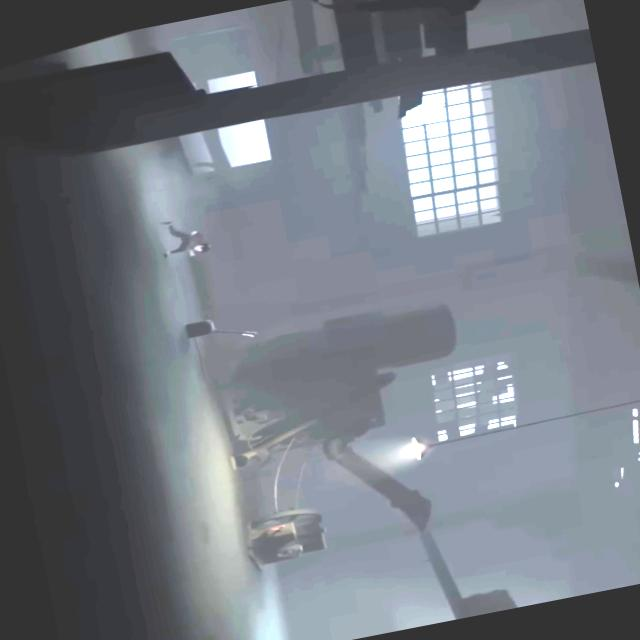boy: (155, 213, 213, 260)
